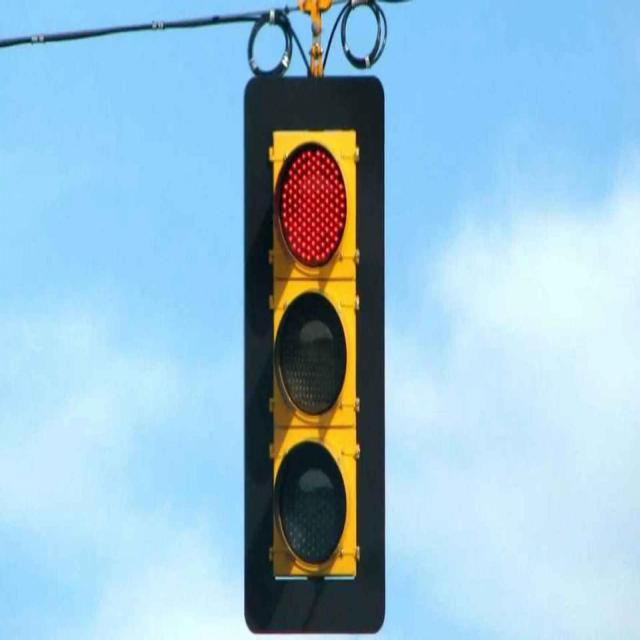red: (260, 130, 359, 290)
